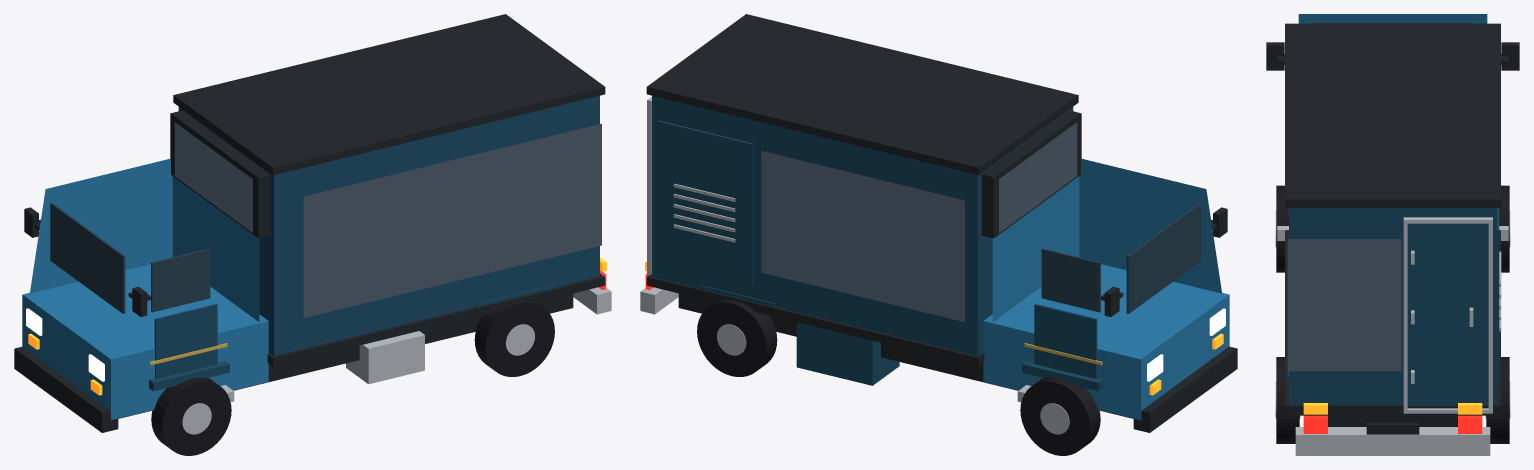
The model's file is Xinyu_2.1t_LED_Mobile_Ad_Truck_V2.glb.
3 views of the same model, side by side, from view 1: azimuth 30°, elevation 25°; view 2: azimuth 150°, elevation 25°; view 3: azimuth 270°, elevation 25° (orthographic). The views are drawn at different scales.
Parts seen in each view (by area): view 1: LED_LEFT_MAIN, CARGO_ROOF_CAP, CARGO_BODY, CAB_LOWER_BODY, CAB_UPPER_SHELL, CAB_FRONT_WINDSHIELD, LED_FRONT_HEADER, WHEEL_FRONT_LEFT, WHEEL_REAR_LEFT, CAB_LEFT_DOOR_PANEL, CARGO_LOWER_RAIL, FRONT_HEADER_STRUCTURE (+8 smaller); view 2: CARGO_ROOF_CAP, LED_RIGHT_MAIN, CARGO_BODY, CAB_LOWER_BODY, CAB_UPPER_SHELL, RIGHT_REAR_SERVICE_PANEL, CAB_FRONT_WINDSHIELD, LED_FRONT_HEADER, WHEEL_FRONT_RIGHT, GENERATOR_BOX, WHEEL_REAR_RIGHT, CAB_RIGHT_DOOR_PANEL (+10 smaller); view 3: CARGO_ROOF_CAP, LED_LEFT_REAR, REAR_RIGHT_ACCESS_DOOR, CARGO_BODY, REAR_BUMPER, CARGO_LOWER_RAIL, CAB_UPPER_SHELL, CHASSIS_MAIN, WHEEL_REAR_LEFT, WHEEL_REAR_RIGHT, REAR_DOOR_FRAME_RIGHT, REAR_DOOR_FRAME_LEFT (+13 smaller).
Boxes of the visible parts, <box> form: LED_LEFT_MAIN: <box>303,123,601,317</box>; CARGO_ROOF_CAP: <box>173,14,605,175</box>; CARGO_BODY: <box>178,95,599,355</box>; CAB_LOWER_BODY: <box>22,264,268,420</box>; CAB_UPPER_SHELL: <box>30,158,259,321</box>; CAB_FRONT_WINDSHIELD: <box>50,203,125,313</box>; LED_FRONT_HEADER: <box>174,122,252,232</box>; WHEEL_FRONT_LEFT: <box>151,377,231,455</box>; WHEEL_REAR_LEFT: <box>474,299,554,376</box>; CAB_LEFT_DOOR_PANEL: <box>154,304,217,378</box>; CARGO_LOWER_RAIL: <box>267,273,605,366</box>; FRONT_HEADER_STRUCTURE: <box>170,110,270,238</box>; CARGO_ROOF_CAP: <box>646,14,1078,175</box>; LED_RIGHT_MAIN: <box>761,151,964,322</box>; CARGO_BODY: <box>652,95,1073,355</box>; CAB_LOWER_BODY: <box>983,264,1229,420</box>; CAB_UPPER_SHELL: <box>992,158,1221,321</box>; RIGHT_REAR_SERVICE_PANEL: <box>657,120,753,283</box>; CAB_FRONT_WINDSHIELD: <box>1126,203,1201,313</box>; LED_FRONT_HEADER: <box>999,122,1077,232</box>; WHEEL_FRONT_RIGHT: <box>1020,377,1100,455</box>; GENERATOR_BOX: <box>796,322,899,385</box>; WHEEL_REAR_RIGHT: <box>697,299,777,376</box>; CAB_RIGHT_DOOR_PANEL: <box>1034,304,1097,378</box>; CARGO_ROOF_CAP: <box>1285,23,1500,207</box>; LED_LEFT_REAR: <box>1287,239,1401,371</box>; REAR_RIGHT_ACCESS_DOOR: <box>1407,223,1488,406</box>; CARGO_BODY: <box>1289,208,1496,404</box>; REAR_BUMPER: <box>1295,427,1490,455</box>; CARGO_LOWER_RAIL: <box>1285,230,1500,415</box>; CAB_UPPER_SHELL: <box>1298,14,1487,23</box>; CHASSIS_MAIN: <box>1328,415,1457,426</box>; WHEEL_REAR_LEFT: <box>1276,357,1299,443</box>; WHEEL_REAR_RIGHT: <box>1486,357,1509,443</box>; REAR_DOOR_FRAME_RIGHT: <box>1488,217,1492,413</box>; REAR_DOOR_FRAME_LEFT: <box>1403,217,1407,412</box>.
Bounding box in the file's own units: 6.29 × 3.13 × 2.5.
